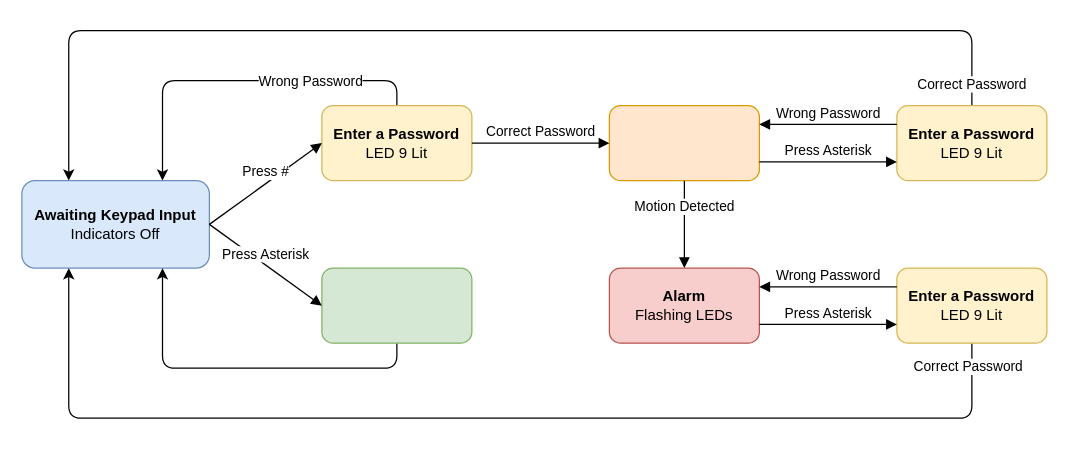
Some shapes in this 1069 by 450 pixel diagram are drawn without their labels. Here are the shapes that lost their labels. From the top down, the centre of each, then its label:
(683,142): Armed "Armed" Displayed
(396,305): Enter a new Password Led 8 Lit
